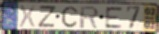7: (126, 5, 142, 31)
C: (61, 6, 79, 29)
E: (104, 6, 124, 30)
R: (79, 5, 100, 30)
X: (18, 4, 37, 29)
Z: (36, 5, 57, 29)
